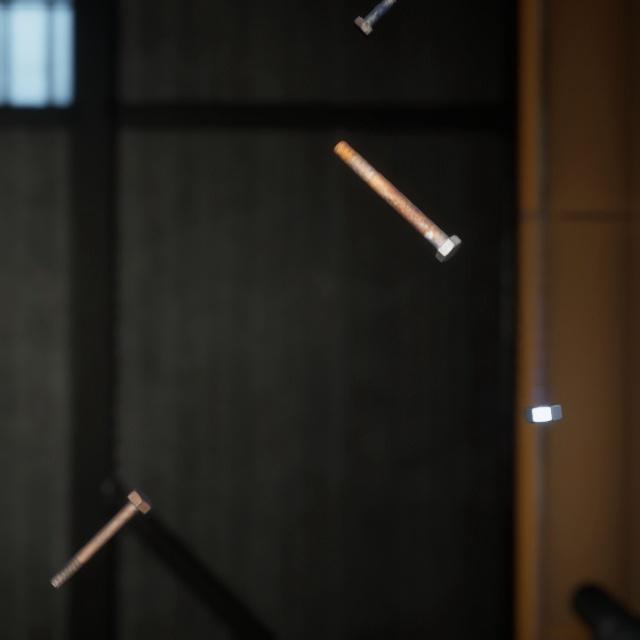bolt: (329, 122, 466, 252), (45, 461, 157, 571), (349, 0, 397, 36)
nut: (520, 379, 566, 407)
